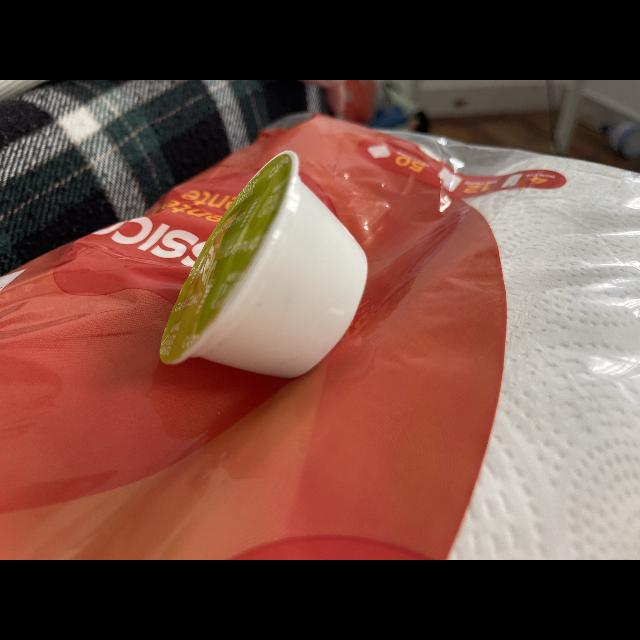intact_capsule: (144, 144, 388, 392)
